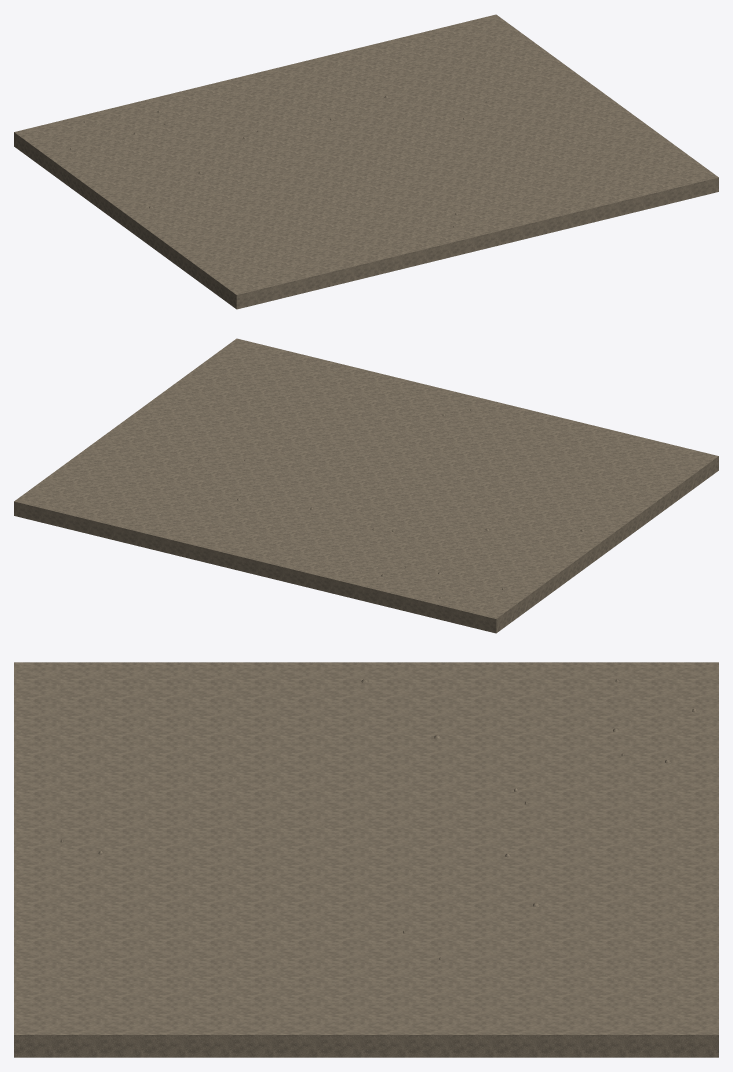
The model's file is SM_Substation_Gravel_LOD2.fbx.
3 views of the same model, one above another, from view 1: azimuth 30°, elevation 25°; view 2: azimuth 150°, elevation 25°; view 3: azimuth 270°, elevation 25° (orthographic). The views are drawn at different scales.
Parts seen in each view (by area): view 1: SM_Substation_Gravel_LOD2; view 2: SM_Substation_Gravel_LOD2; view 3: SM_Substation_Gravel_LOD2.
Part boxes in pixels (bbox=[...]): SM_Substation_Gravel_LOD2: bbox=[14, 14, 718, 309]; SM_Substation_Gravel_LOD2: bbox=[14, 338, 718, 633]; SM_Substation_Gravel_LOD2: bbox=[14, 662, 718, 1057].
Bounding box in the file's own units: 20 × 16 × 0.63.
